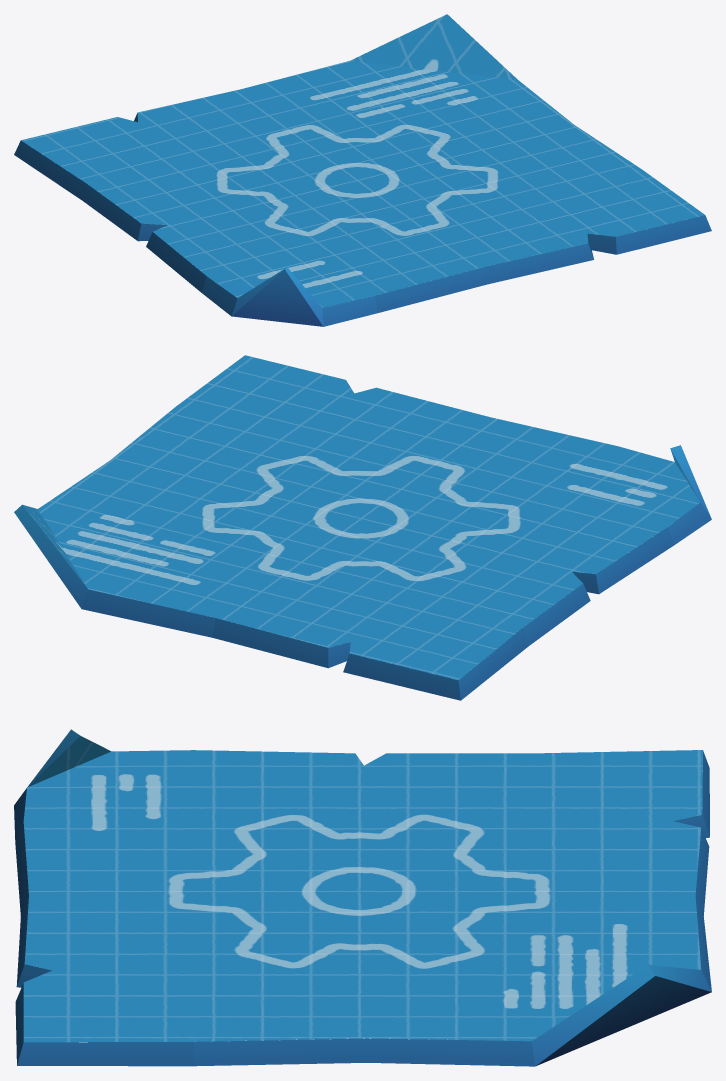
File: blueprint.glb
The picture shows the model from 3 angles, top to bottom: view 1: azimuth 30°, elevation 25°; view 2: azimuth 150°, elevation 25°; view 3: azimuth 270°, elevation 25°; orthographic projection. The views are drawn at different scales.
Parts seen in each view (by area): view 1: blueprint; view 2: blueprint; view 3: blueprint.
Part boxes in pixels (box(x1,y1,x2,y2)): blueprint: box(14, 14, 711, 326); blueprint: box(14, 355, 711, 700); blueprint: box(14, 729, 711, 1066).
Bounding box in the file's own units: 0.8915 × 0.1082 × 0.8758.
Materials: 2 (2 with a texture image).
